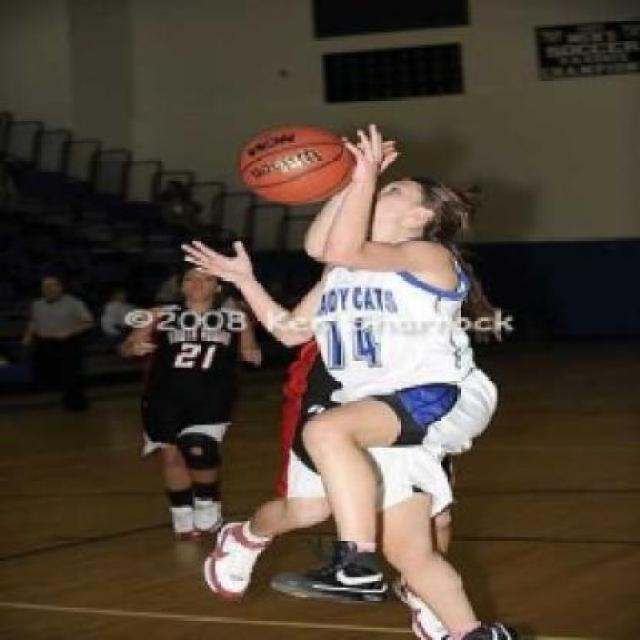basketball: (234, 116, 364, 208)
